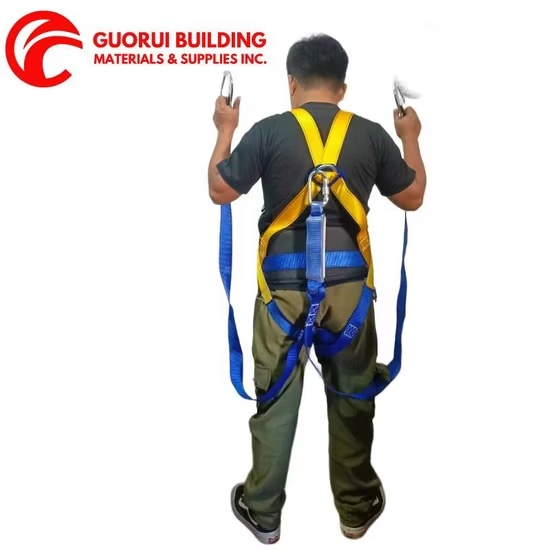No_SafetyShoes: (230, 485, 282, 544), (336, 485, 385, 539)
No_helmet: (286, 38, 353, 82)
Person: (202, 27, 436, 550)
Safety_Harness: (221, 75, 407, 398)
